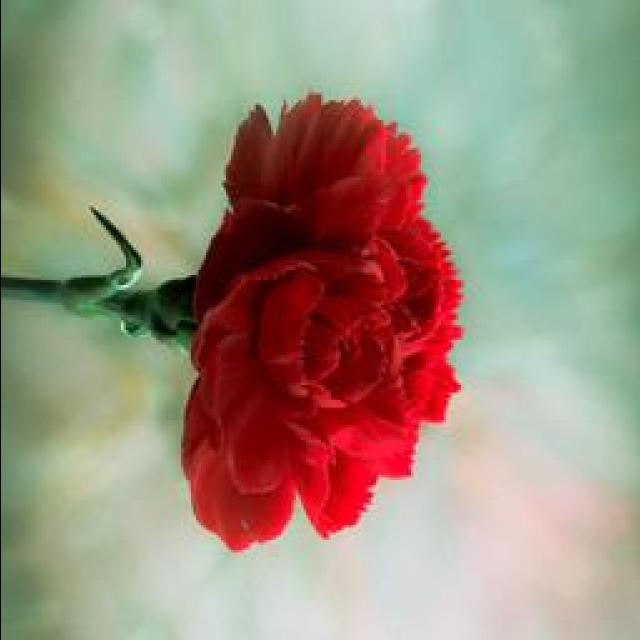carnation: (145, 75, 482, 548)
